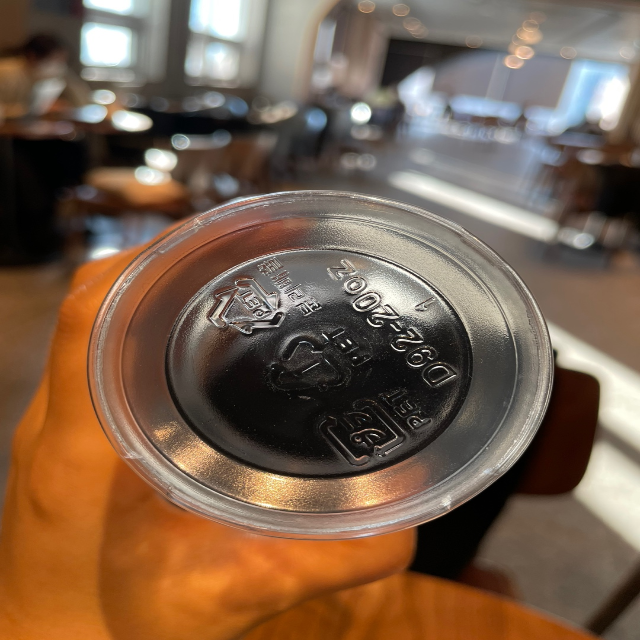pet: (203, 252, 324, 341), (266, 316, 373, 400), (314, 386, 429, 462)
